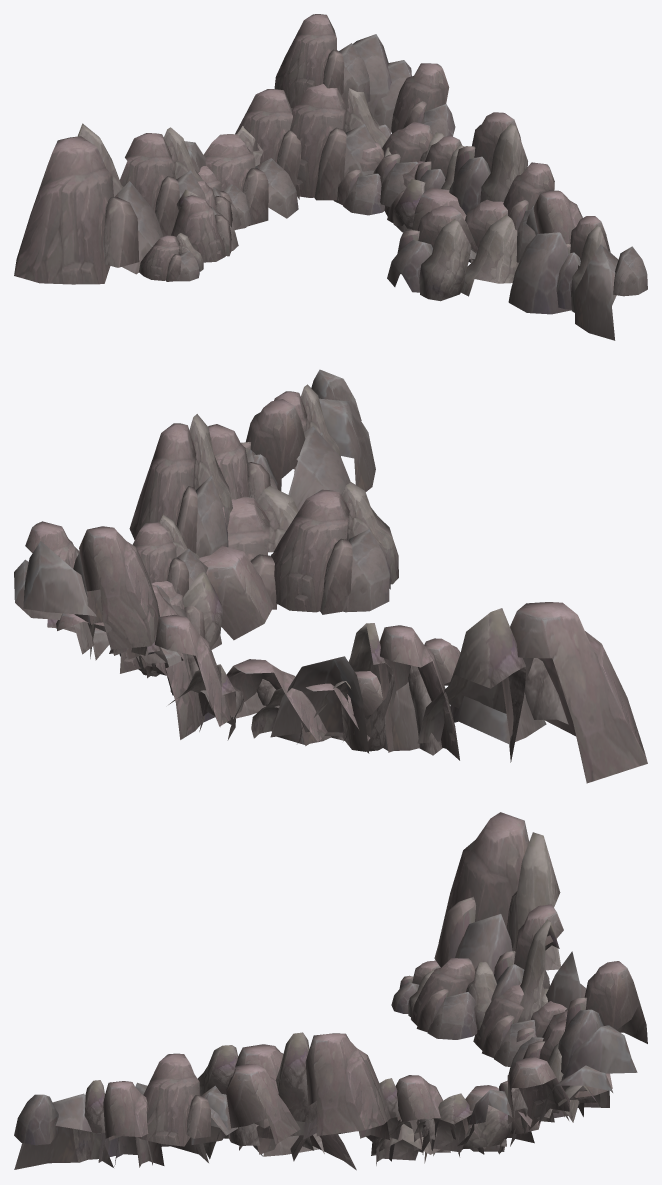
File: area_10_8.FBX
3 renders of one model, top to bottom at view 1: azimuth 30°, elevation 25°; view 2: azimuth 150°, elevation 25°; view 3: azimuth 270°, elevation 25°, orthographic. The views are drawn at different scales.
Visible parts, largest first — view 1: area_10_8; view 2: area_10_8; view 3: area_10_8.
Part boxes in pixels (x1=…): area_10_8: x1=14, y1=14, x2=647, y2=340; area_10_8: x1=14, y1=369, x2=647, y2=783; area_10_8: x1=14, y1=812, x2=647, y2=1170.
Bounding box in the file's own units: 114 × 37.63 × 117.
